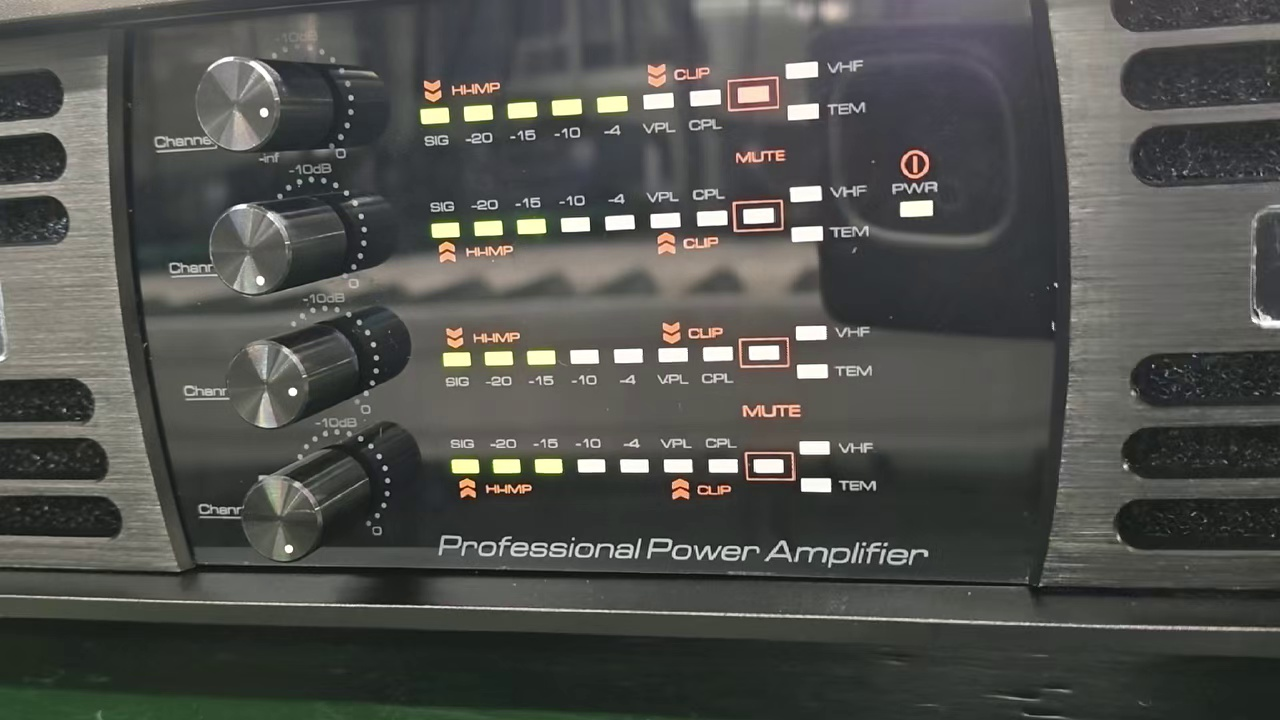FP_CPL: (684, 83, 726, 145), (689, 183, 729, 233), (697, 341, 736, 387), (703, 430, 740, 476)
FP_PWR: (886, 176, 943, 223)
FP_PWR_area: (882, 140, 946, 228)
FP_SIG_area: (415, 53, 867, 147), (424, 182, 874, 258), (434, 316, 876, 390), (448, 431, 875, 506)
FP_VPL: (638, 87, 682, 142), (647, 182, 683, 235), (654, 342, 693, 390), (660, 430, 695, 477)
